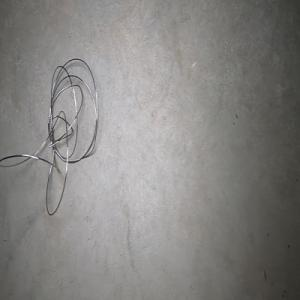Wire: (0, 58, 97, 215)
